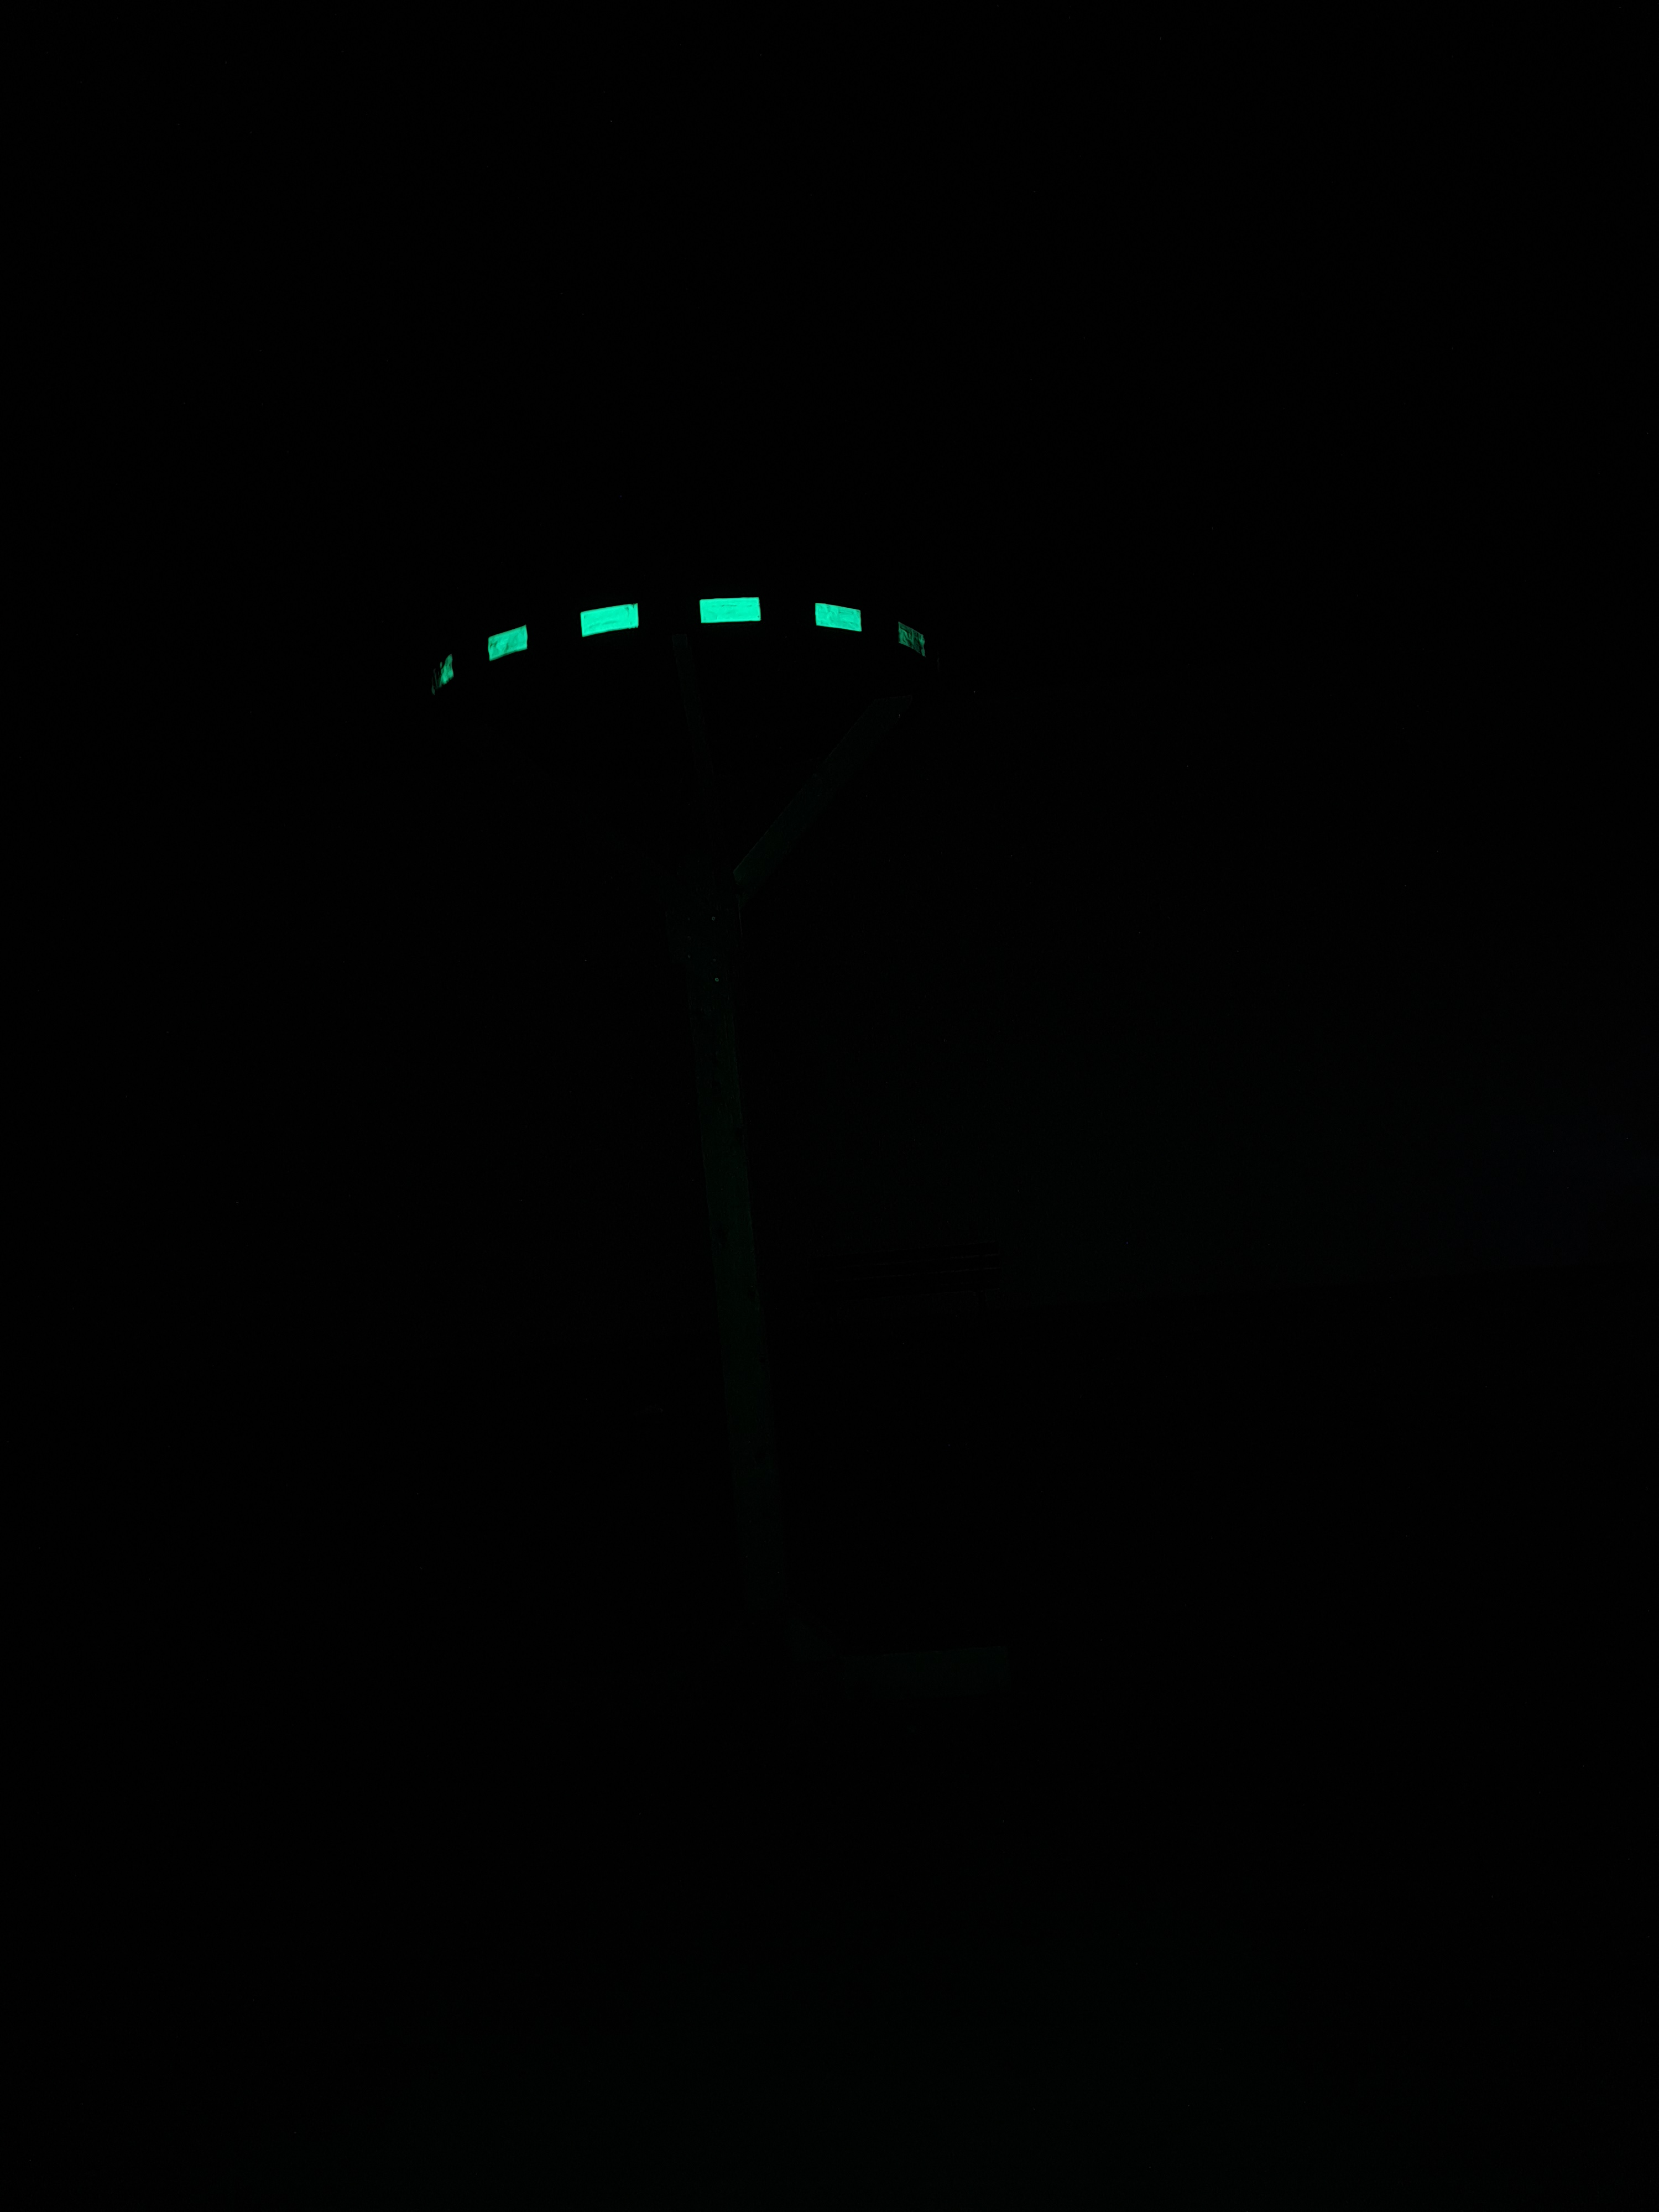hoop: (425, 594, 941, 697)
